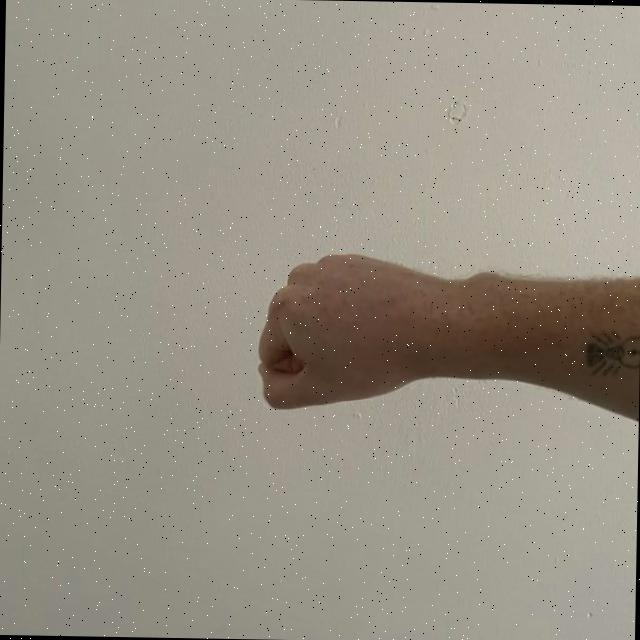rock: (248, 248, 498, 417)
